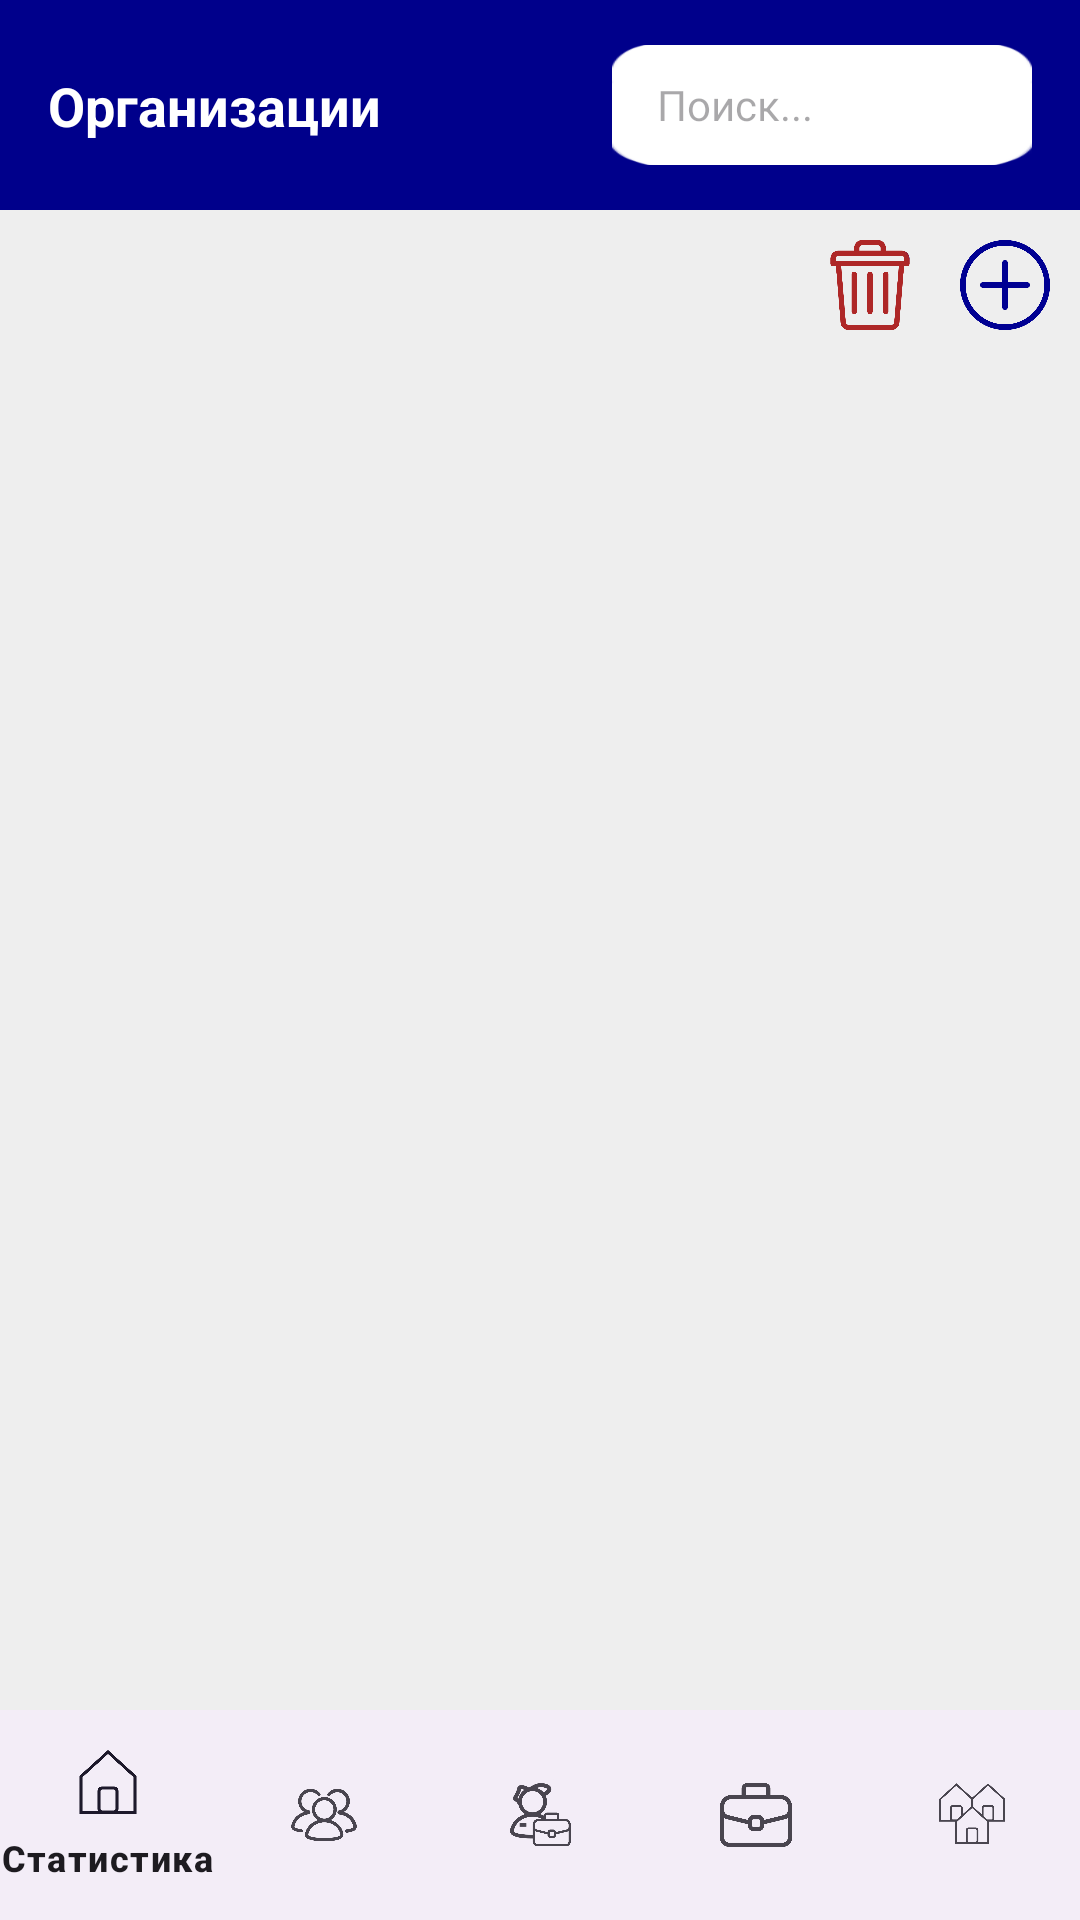

Icons on this 1080 x 1920 Android screen, each with the point to tap as point (x, y):
delete: point (870, 285)
plus: point (1005, 285)
